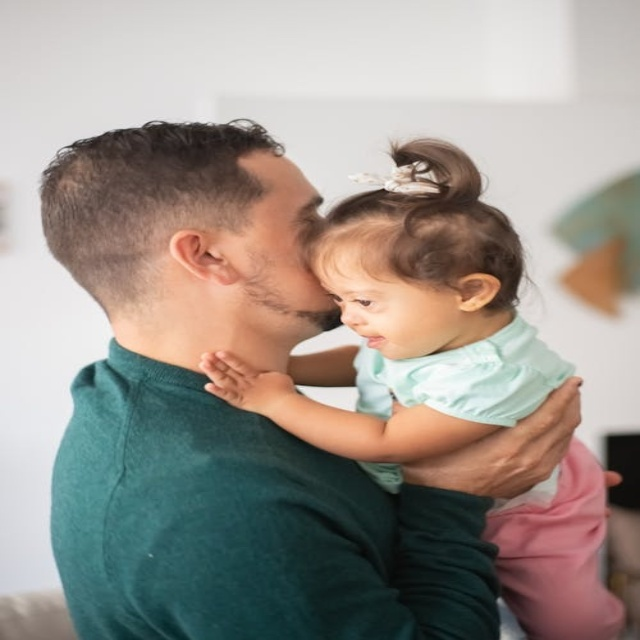Sin_gafas: (319, 280, 412, 313), (247, 190, 332, 226)
Sin_guantes: (402, 373, 586, 502), (197, 349, 287, 412)
Sin_mascara: (351, 326, 406, 357)
